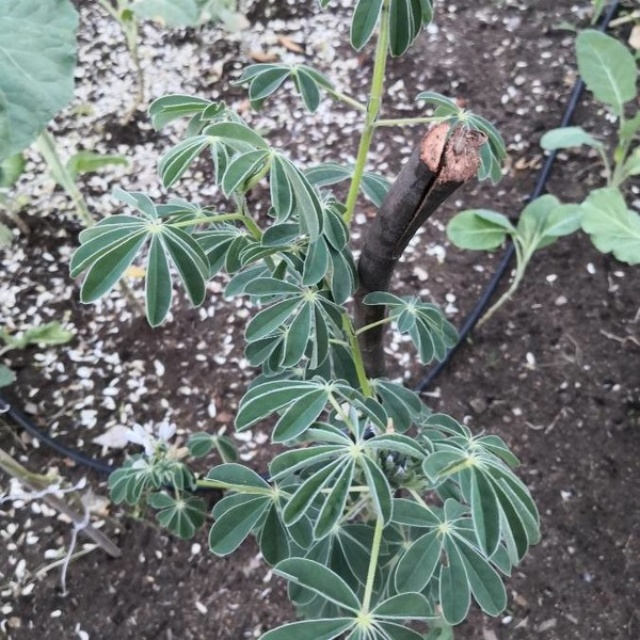obstacle: (59, 75, 524, 639)
